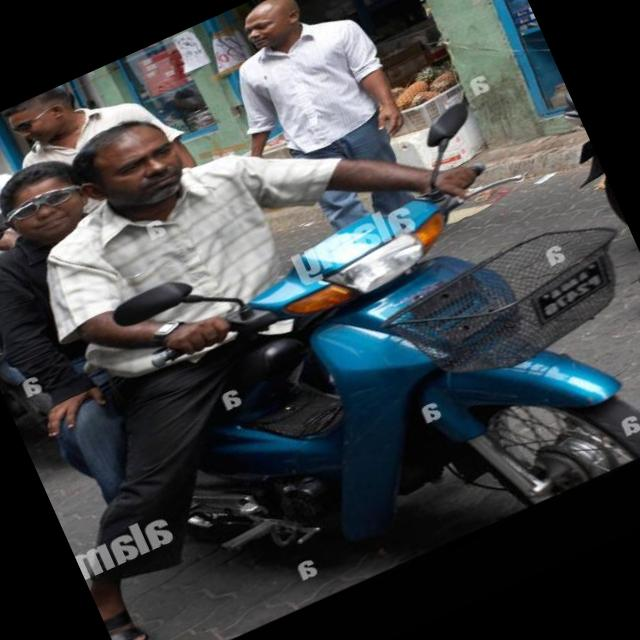without helmet: (70, 100, 210, 232), (0, 151, 91, 258)
